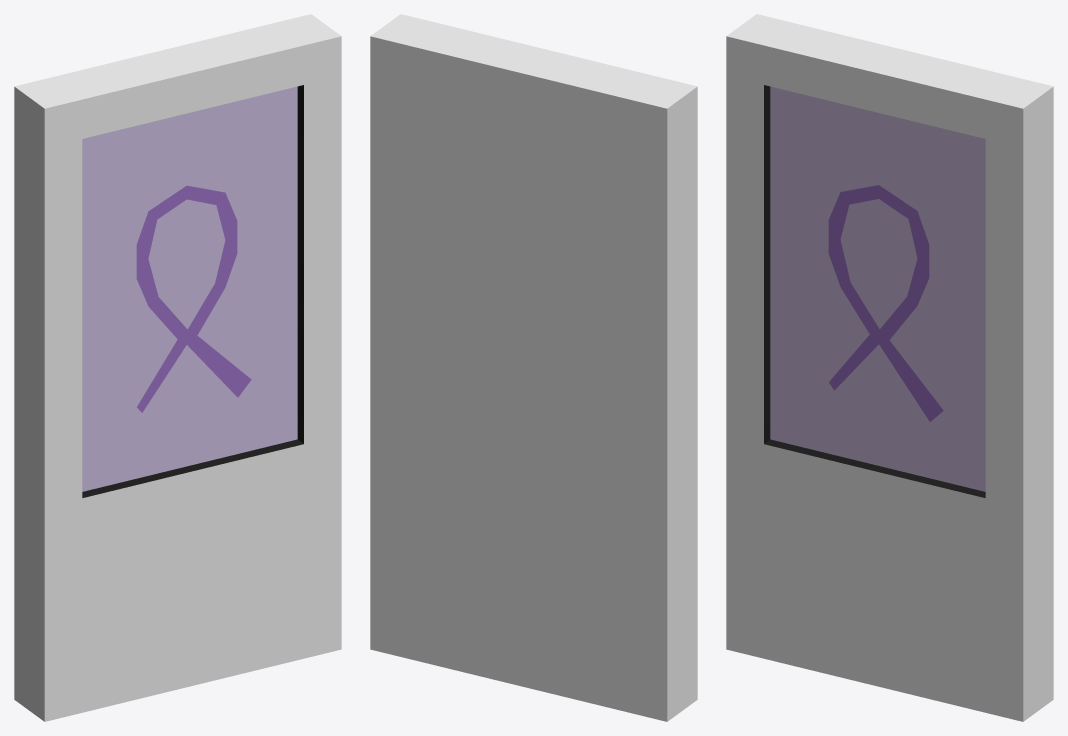
File: entertainment_027.glb
The picture shows the model from 3 angles, left to right: view 1: azimuth 30°, elevation 25°; view 2: azimuth 150°, elevation 25°; view 3: azimuth 330°, elevation 25°; orthographic projection.
Visible parts, largest first — view 1: entertainment_027; view 2: entertainment_027; view 3: entertainment_027.
Boxes of the visible parts, box(x1,y1,x2,y2) form: entertainment_027: box(14, 14, 341, 721); entertainment_027: box(370, 14, 697, 721); entertainment_027: box(726, 14, 1053, 721).
Bounding box in the file's own units: 0.8932 × 1.76 × 0.1587.
1 material, 1 textured.
